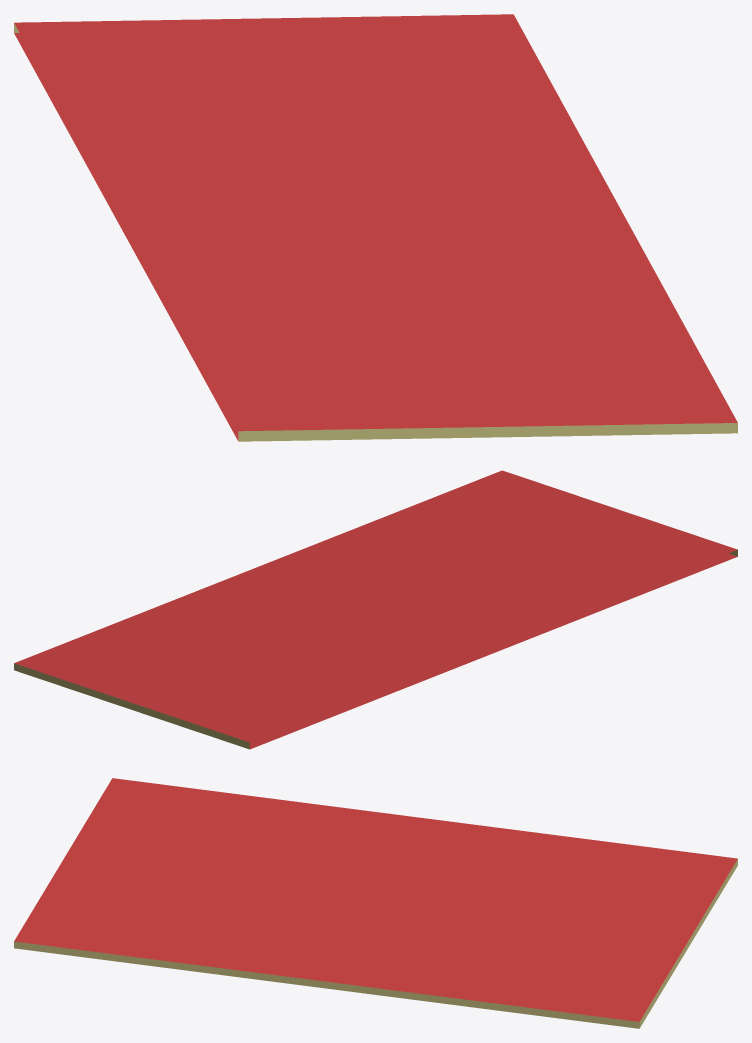
3 views of the same model, one above another, from view 1: azimuth 30°, elevation 25°; view 2: azimuth 150°, elevation 25°; view 3: azimuth 270°, elevation 25° (orthographic). The views are drawn at different scales.
Size of the model in its own units: 6.74 by 9.5 by 0.488.
